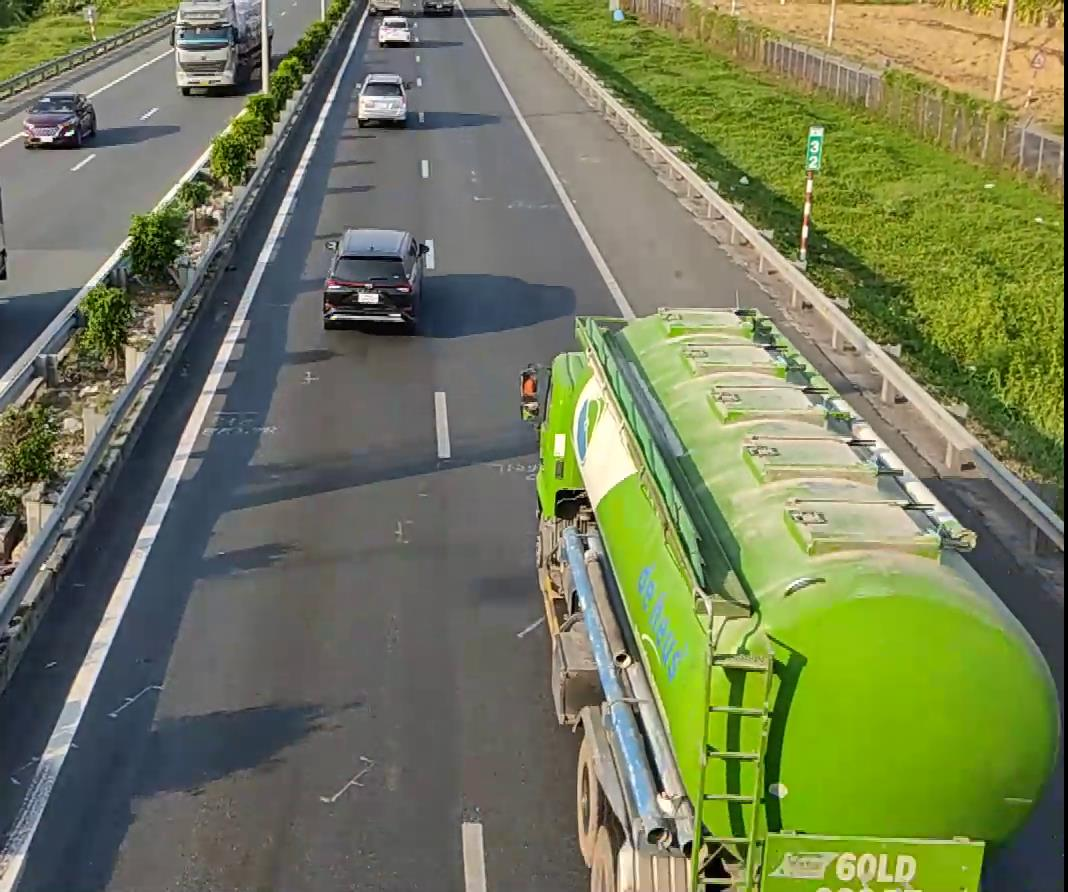car: (320, 228, 432, 330), (21, 89, 96, 148)
container: (529, 308, 1062, 892)
